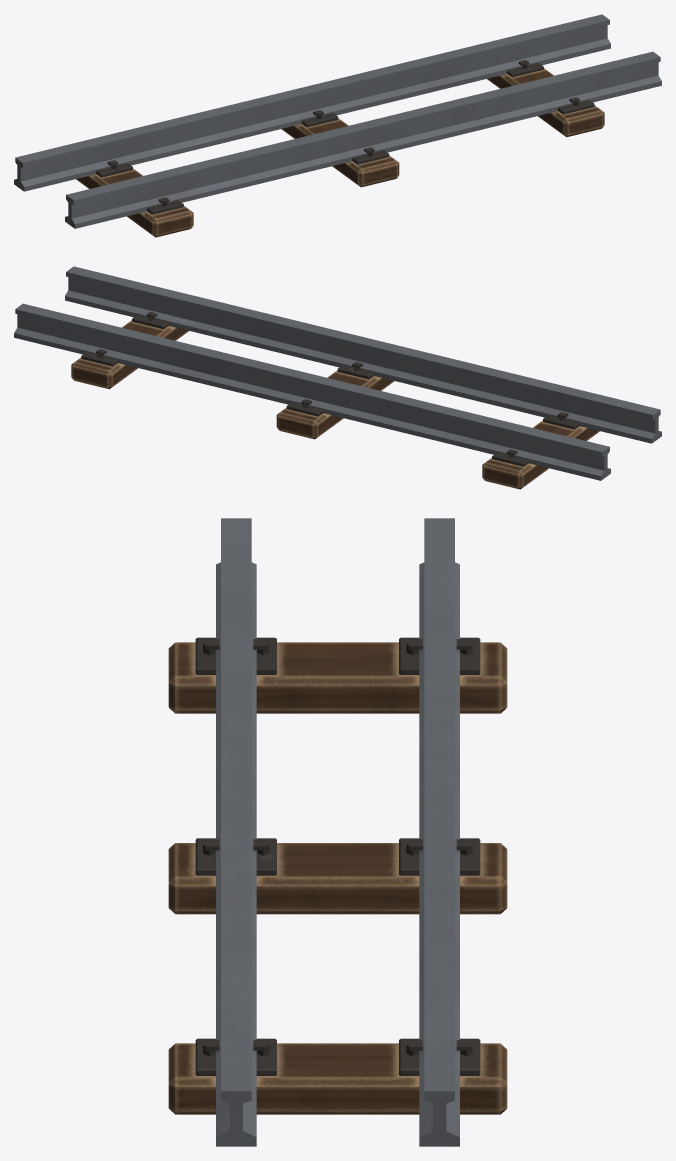
The model's file is rail_mina.fbx.
3 renders of one model, top to bottom at view 1: azimuth 30°, elevation 25°; view 2: azimuth 150°, elevation 25°; view 3: azimuth 270°, elevation 25°, orthographic. The views are drawn at different scales.
Visible parts, largest first — view 1: rail_mina; view 2: rail_mina; view 3: rail_mina.
Part boxes in pixels (x1,y1,x2,y2): rail_mina: (14, 14, 661, 237); rail_mina: (14, 266, 661, 489); rail_mina: (168, 518, 507, 1146).
Bounding box in the file's own units: 4 × 0.3 × 1.
1 material, 1 textured.
